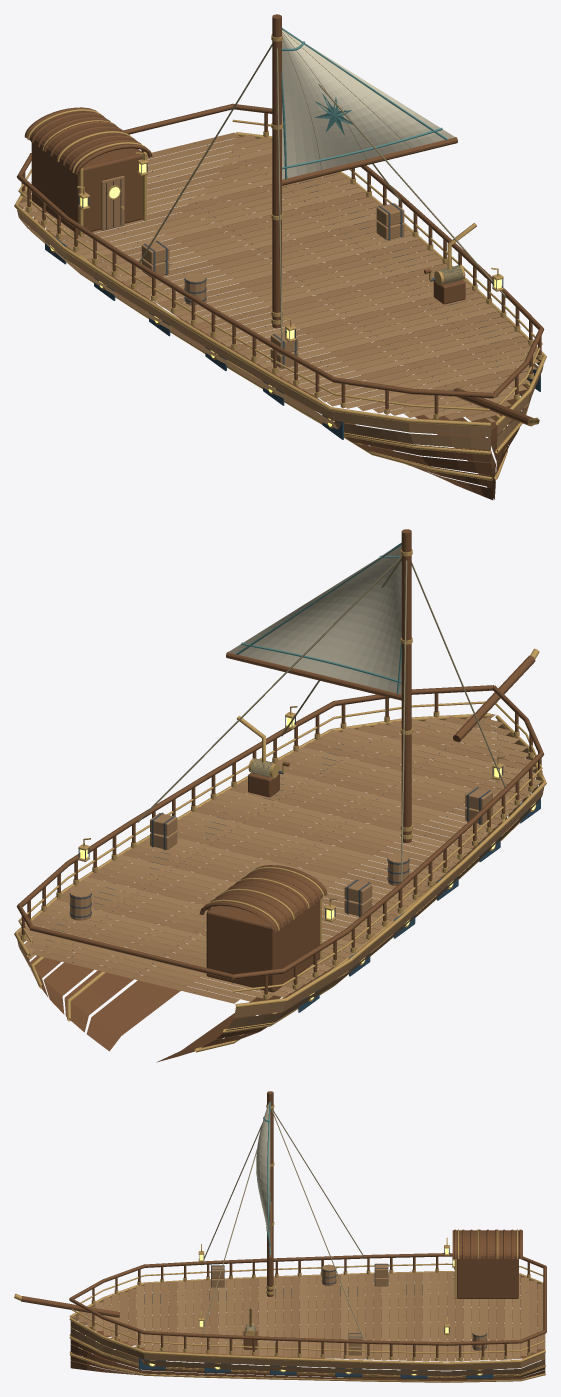
File: starsail-v01.glb
The picture shows the model from 3 angles, top to bottom: view 1: azimuth 30°, elevation 25°; view 2: azimuth 150°, elevation 25°; view 3: azimuth 270°, elevation 25°; orthographic projection. The views are drawn at different scales.
Visible parts, largest first — view 1: Walnut hull, Honey plank 1, Honey plank 0, Honey plank 2, Honey plank 3, Honey plank 4, Aged brass, Woven ivory sail, Hemp rigging, Blue green sail hem, Midnight hull panels, Forged iron; view 2: Walnut hull, Honey plank 1, Honey plank 0, Honey plank 2, Honey plank 3, Woven ivory sail, Honey plank 4, Aged brass, Hemp rigging, Forged iron, Midnight hull panels, Blue green sail hem; view 3: Walnut hull, Honey plank 1, Honey plank 0, Aged brass, Honey plank 2, Honey plank 4, Honey plank 3, Hemp rigging, Woven ivory sail, Midnight hull panels, Forged iron.
Boxes of the visible parts, x1,y1,x2,y2 form: Walnut hull: (17,14,544,500); Honey plank 1: (19,134,538,449); Honey plank 0: (17,132,543,436); Honey plank 2: (22,137,537,422); Honey plank 3: (18,141,536,417); Honey plank 4: (23,147,539,418); Aged brass: (14,34,546,480); Woven ivory sail: (282,30,454,179); Hemp rigging: (139,30,506,347); Blue green sail hem: (281,28,448,179); Midnight hull panels: (45,179,540,439); Forged iron: (78,142,503,418); Walnut hull: (16,529,544,1062); Honey plank 1: (20,715,541,1028); Honey plank 0: (17,716,544,1017); Honey plank 2: (25,714,537,998); Honey plank 3: (18,719,542,997); Woven ivory sail: (228,545,401,694); Honey plank 4: (25,717,537,993); Aged brass: (14,549,546,1052); Hemp rigging: (137,555,505,882); Forged iron: (69,716,503,992); Midnight hull panels: (45,743,540,1012); Blue green sail hem: (235,542,401,694); Walnut hull: (21,1091,546,1381); Honey plank 1: (70,1263,545,1376); Honey plank 0: (70,1272,545,1370); Aged brass: (14,1104,545,1382); Honey plank 2: (71,1264,528,1361); Honey plank 4: (95,1272,512,1361); Honey plank 3: (103,1272,520,1361); Hemp rigging: (201,1103,365,1340); Woven ivory sail: (256,1103,270,1251); Midnight hull panels: (139,1284,493,1378); Forged iron: (76,1248,543,1349).
Size of the model in its own units: 13.37 by 17.18 by 32.57.
